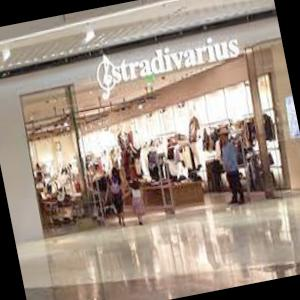stradivarius: (85, 22, 257, 110)
